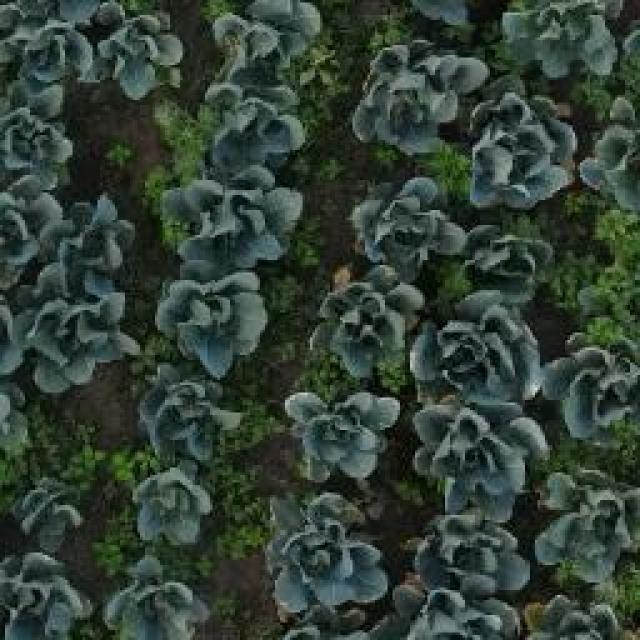cabbage: (162, 164, 304, 274), (408, 394, 546, 507), (267, 490, 385, 620), (349, 37, 474, 156), (10, 280, 140, 392), (407, 306, 548, 408), (466, 92, 580, 211), (304, 262, 427, 368), (155, 268, 276, 374), (533, 464, 639, 584), (404, 509, 532, 603), (544, 318, 639, 444), (196, 68, 304, 175), (350, 175, 466, 272), (282, 388, 401, 479), (79, 3, 187, 103), (452, 212, 556, 312), (134, 366, 246, 458), (495, 0, 617, 79), (100, 556, 210, 640), (43, 191, 146, 274), (125, 458, 213, 552), (0, 552, 90, 640), (0, 95, 75, 193), (10, 469, 90, 546)
